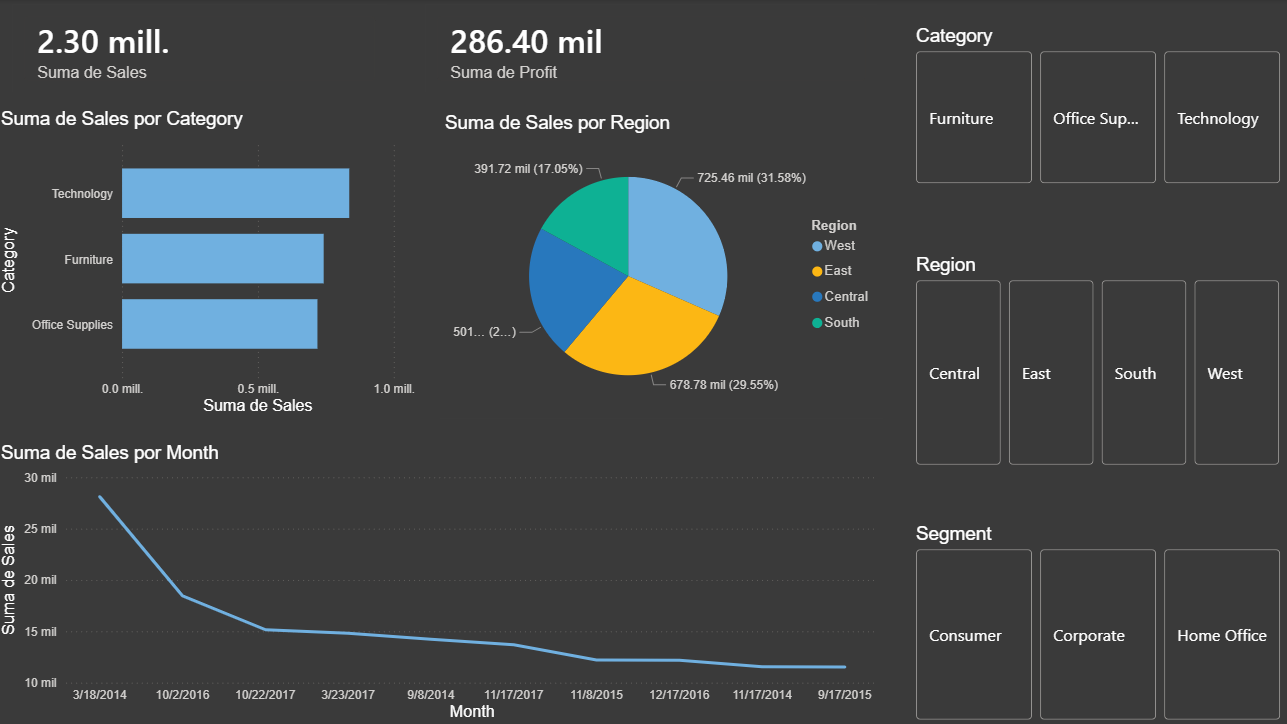

What the dashboard file says about the page in this screenshot:
{"tool":"powerbi","page":{"name":"Página 1","canvas":[1280,720],"ordinal":0},"visuals":[{"type":"cardVisual","fields":{"Data":["Sum(Sample - Superstore.Sales)"]},"box":[10.9,0,382.7,98.2],"z":0},{"type":"cardVisual","fields":{"Data":["Sum(Sample - Superstore.Profit)"]},"box":[420.4,0,459.1,98.2],"z":1000},{"type":"clusteredBarChart","fields":{"Category":["Sample - Superstore.Category"],"Y":["Sum(Sample - Superstore.Sales)"]},"box":[0,108.1,420.4,308.4],"z":2000},{"type":"pieChart","fields":{"Category":["Sample - Superstore.Region"],"Y":["Sum(Sample - Superstore.Sales)"]},"box":[440.2,112,439.2,304.4],"z":3000},{"type":"lineChart","fields":{"Category":["Sample - Superstore.Month"],"Y":["Sum(Sample - Superstore.Sales)"]},"box":[0,439.2,879.4,280.6],"z":4000},{"type":"advancedSlicerVisual","fields":{"Values":["Sample - Superstore.Region"]},"box":[907.2,252.8,372.8,214.2],"z":4001},{"type":"advancedSlicerVisual","fields":{"Values":["Sample - Superstore.Category"]},"box":[907,26.1,373,162.9],"z":4002},{"type":"advancedSlicerVisual","fields":{"Values":["Sample - Superstore.Segment"]},"box":[907,519.8,373,200.1],"z":4003}]}

Visuals, with their boxes in screenshot pixels (x1, y1, x2, y2), scaled from the page's 1280x720 canvas onto the 1287x724 screenshot:
cardVisual - Sum(Sample - Superstore.Sales): x1=11, y1=0, x2=396, y2=99
cardVisual - Sum(Sample - Superstore.Profit): x1=423, y1=0, x2=884, y2=99
clusteredBarChart - Sample - Superstore.Category x Sum(Sample - Superstore.Sales): x1=0, y1=109, x2=423, y2=419
pieChart - Sample - Superstore.Region x Sum(Sample - Superstore.Sales): x1=443, y1=113, x2=884, y2=419
lineChart - Sample - Superstore.Month x Sum(Sample - Superstore.Sales): x1=0, y1=442, x2=884, y2=723
advancedSlicerVisual - Sample - Superstore.Region: x1=912, y1=254, x2=1286, y2=470
advancedSlicerVisual - Sample - Superstore.Category: x1=912, y1=26, x2=1286, y2=190
advancedSlicerVisual - Sample - Superstore.Segment: x1=912, y1=523, x2=1286, y2=723
